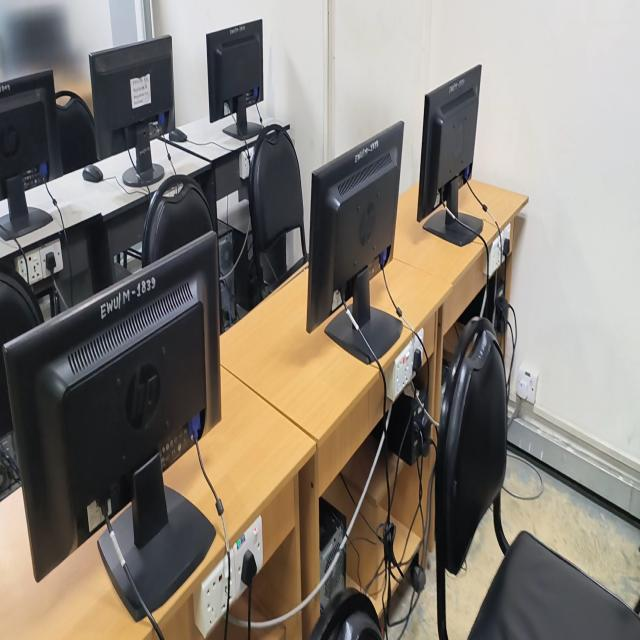Chair: (434, 318, 640, 639), (248, 124, 307, 306), (142, 173, 213, 267), (58, 91, 98, 174), (337, 611, 381, 639)
Cpu: (319, 498, 346, 610), (218, 231, 238, 329)
Monitor: (4, 232, 220, 639), (306, 121, 404, 364), (89, 36, 175, 180), (416, 65, 481, 222), (0, 70, 63, 199), (206, 21, 263, 139)
Mouse: (82, 164, 103, 183), (168, 129, 187, 142)
